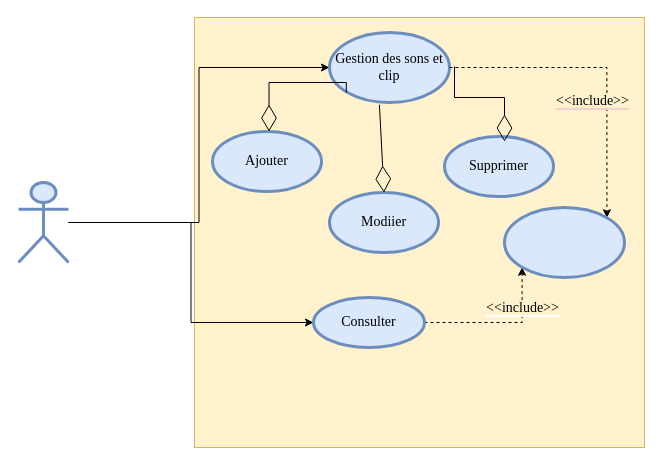
Image size: 662x465. Some labels were removed from this diagram. The shapes that lost their labels are listed below. From the top down, each one's centre as x and y in pixels, then its label:
the point at 43,222: Artiste
the point at 564,242: Authentification
